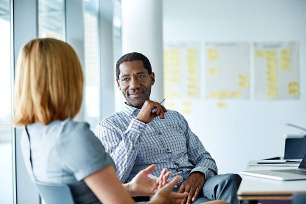male: (113, 53, 158, 109)
